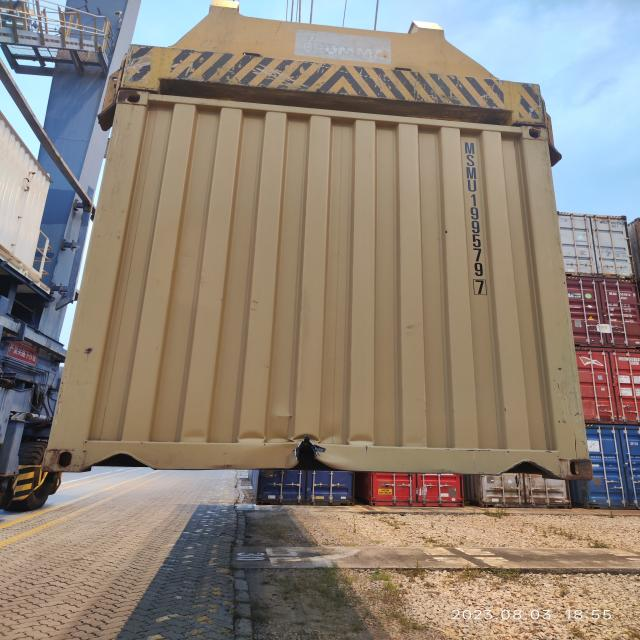dent: (348, 434, 378, 448), (238, 430, 267, 444), (180, 430, 208, 441), (292, 433, 322, 443), (269, 411, 295, 422)
